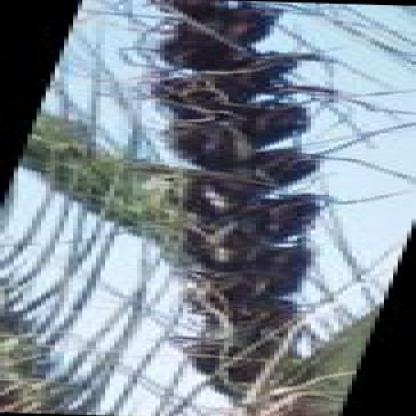Wheat Smut: (200, 214, 298, 251), (198, 261, 302, 290), (179, 5, 247, 39), (209, 178, 280, 209), (170, 80, 241, 108), (216, 294, 295, 318), (179, 120, 247, 146), (203, 348, 254, 378), (176, 47, 245, 66), (210, 158, 299, 169), (271, 108, 304, 126)
